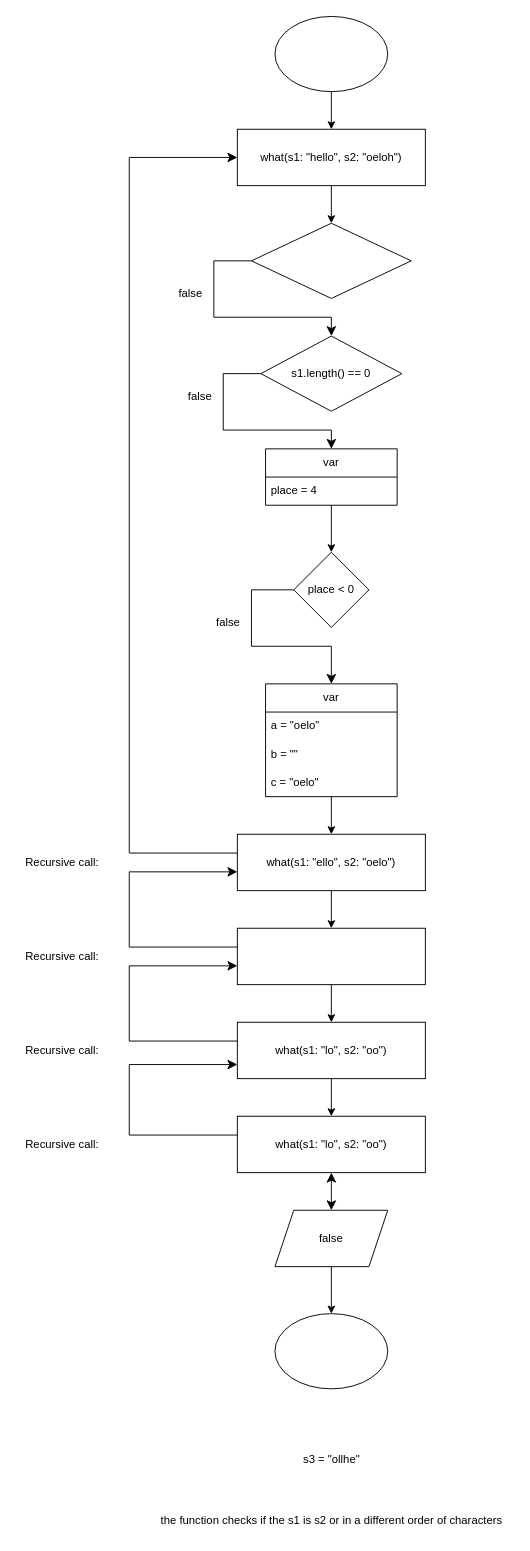
This 530x1551 diagram has some shape labels left out. Each missing label, with the centre of its shape:
END: point (331, 1351)
s1.length() != s2.length(): point (331, 260)
START: point (331, 54)
what(s1: "llo", s2: "olo"): point (330, 956)
